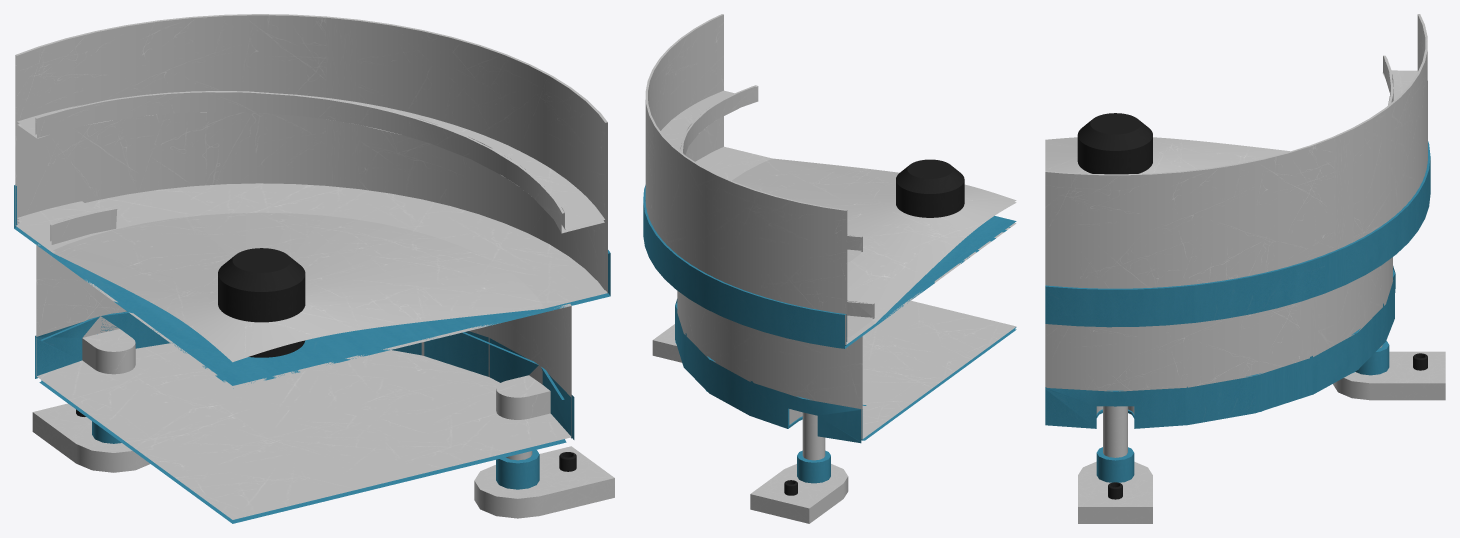
File: WingConveyorS1_Cube01.glb
3 renders of one model, left to right at view 1: azimuth 30°, elevation 25°; view 2: azimuth 150°, elevation 25°; view 3: azimuth 270°, elevation 25°, orthographic. The views are drawn at different scales.
Visible parts, largest first — view 1: color-47[26]; view 2: color-47[26]; view 3: color-47[26].
Boxes of the visible parts, x1,y1,x2,y2 form: color-47[26]: (14,14,614,523); color-47[26]: (643,14,1016,523); color-47[26]: (1045,14,1445,523).
Bounding box in the file's own units: 0.3195 × 0.301 × 0.32.
3 materials, 3 textured.
